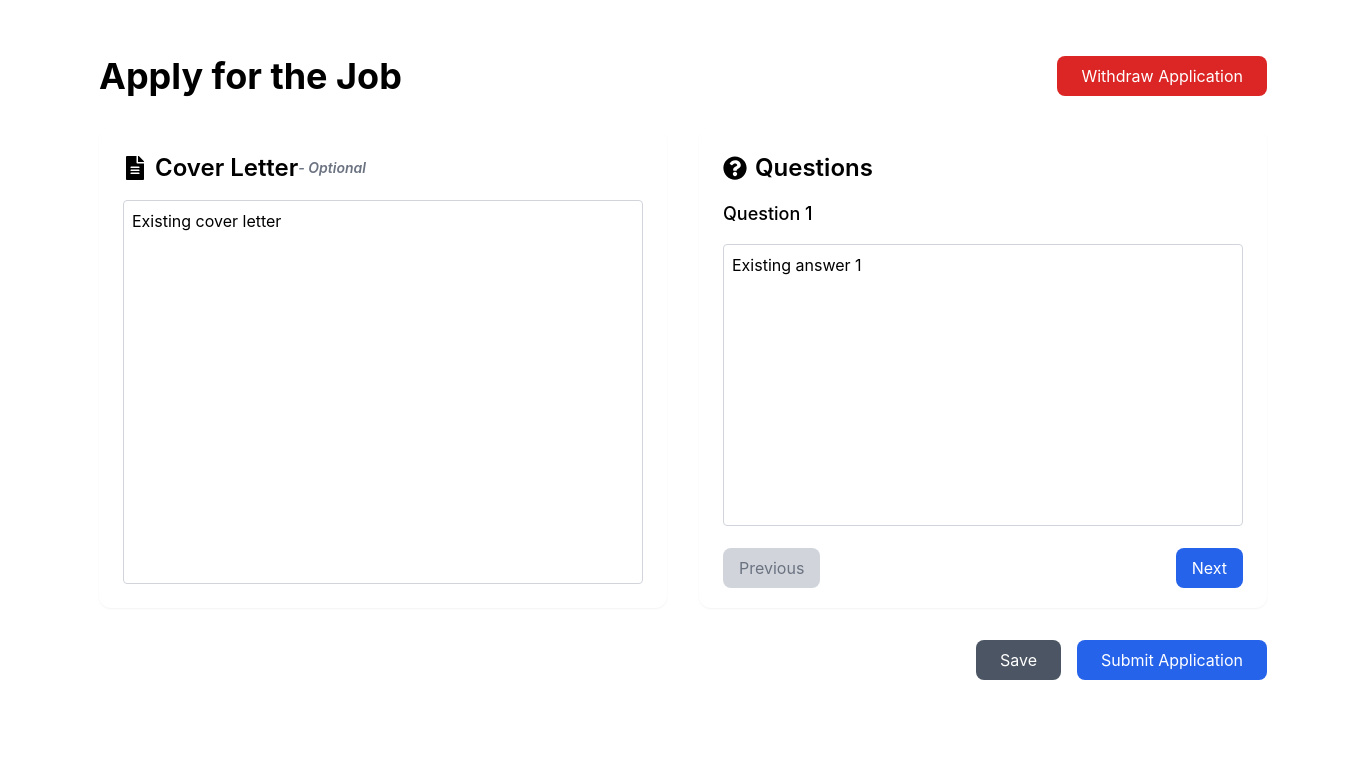
Apply Component › disables next button on last question
Step 1. Click the button "Next" → [1209, 568], box [1176,548,1243,588]
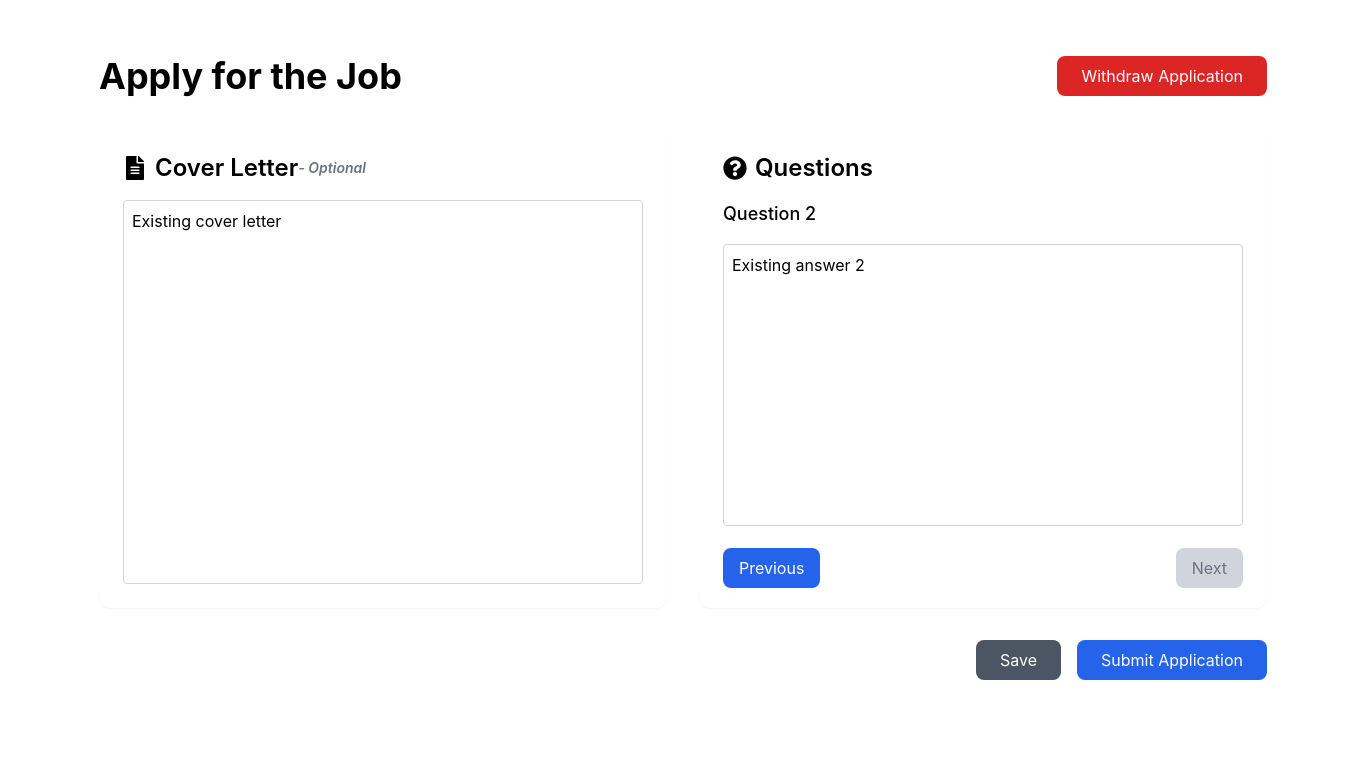
Result: the button "Next" is disabled at [1176,548,1243,588]
